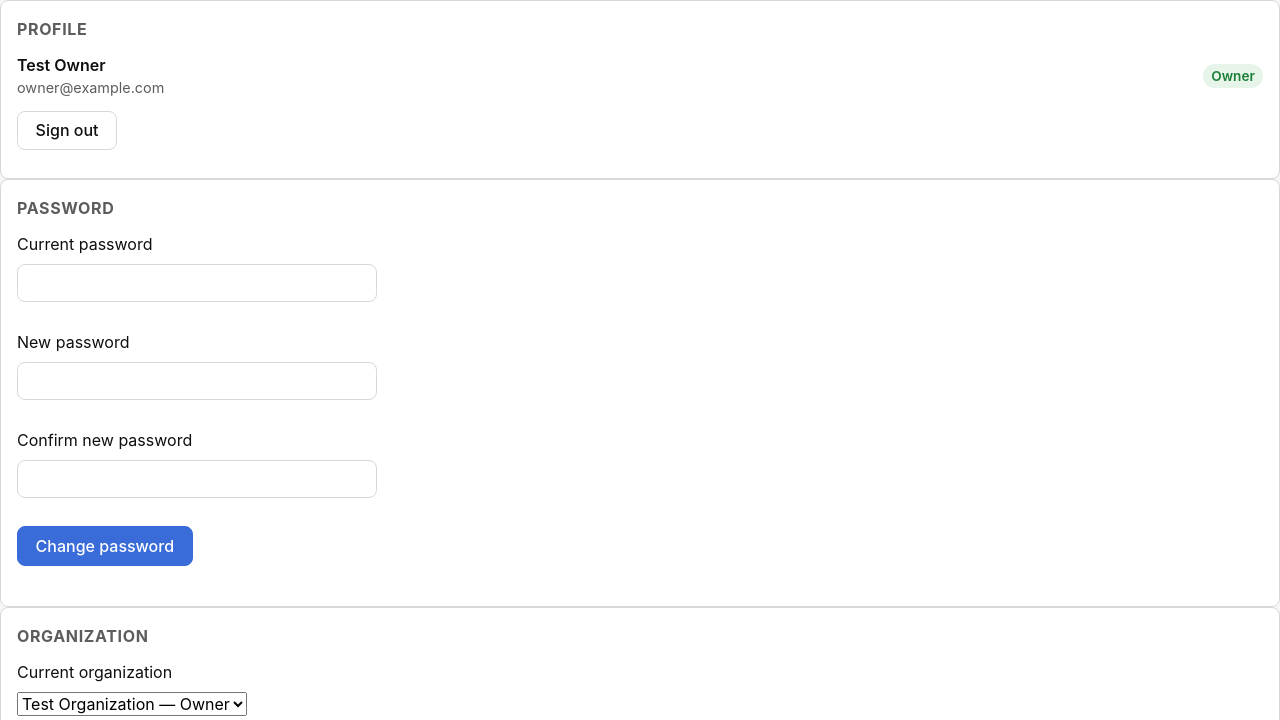
Scenario: AccountPage › changes the password and shows a success message
Step 1. Type "old-password" into the password field labelled "Current password" → (197,283), box [17,264,377,302]
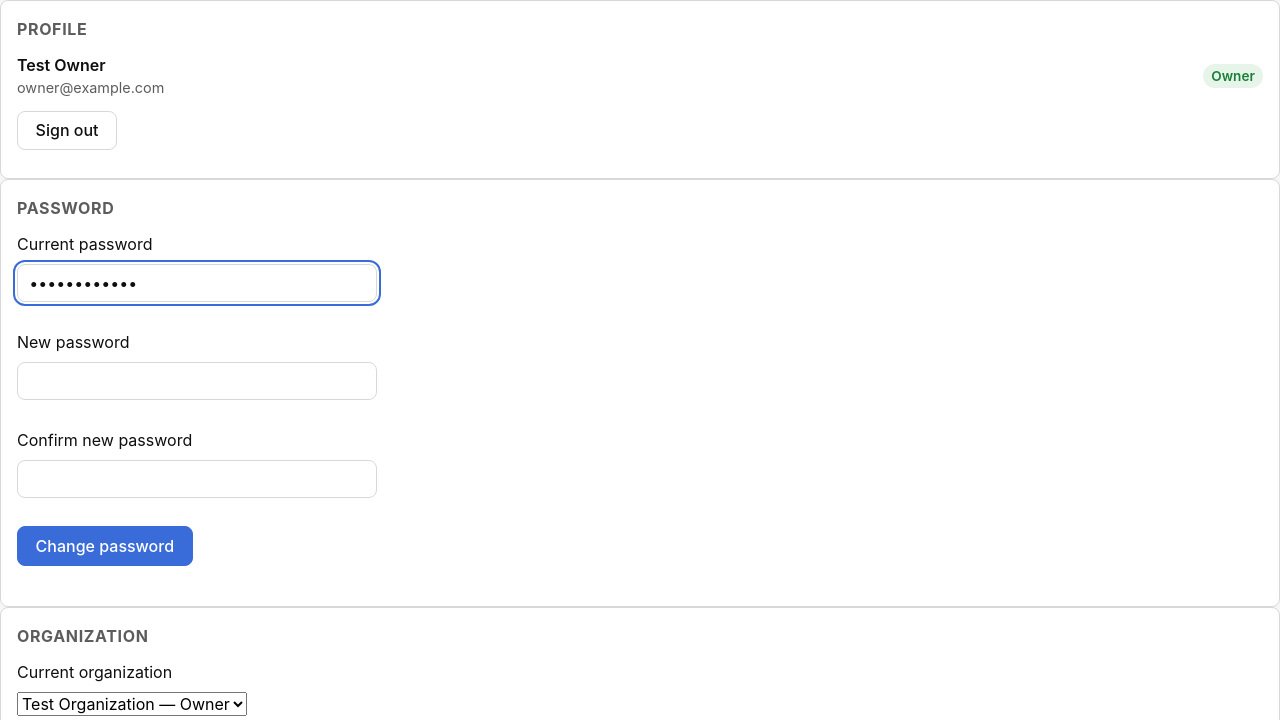
Step 2. Type "new-password-1" into the password field labelled "New password" → (197,381), box [17,362,377,400]
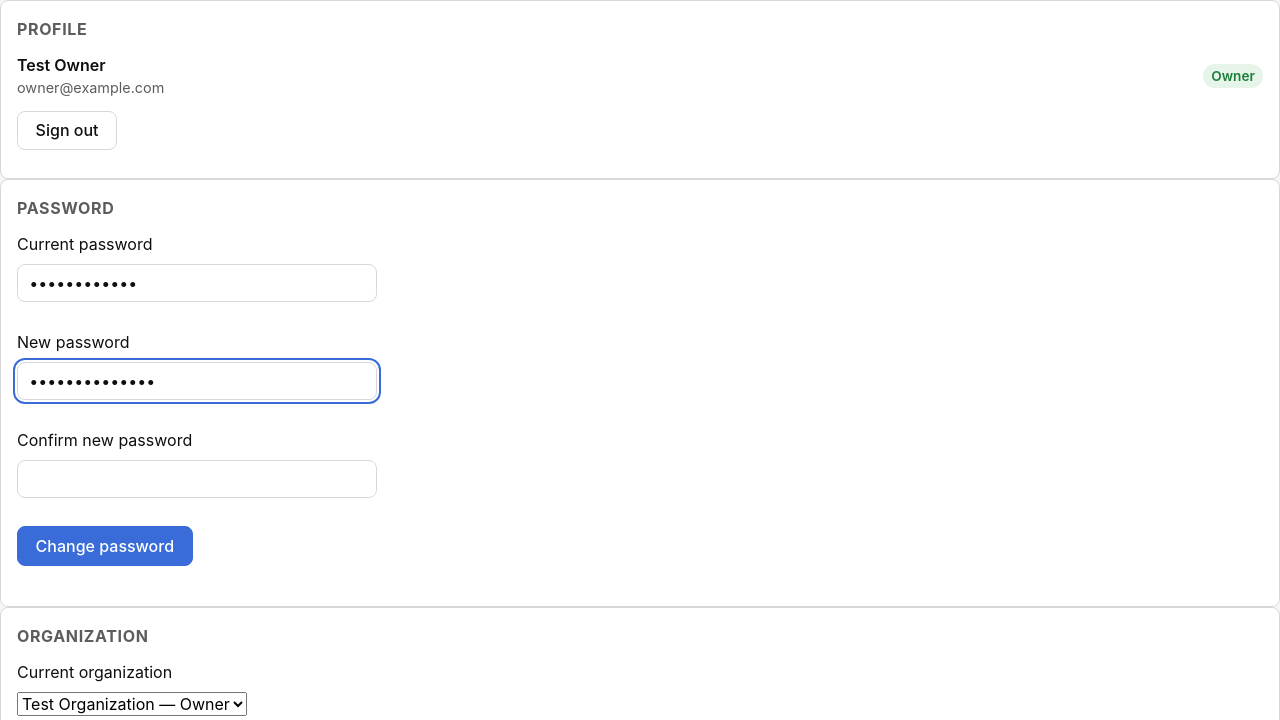
Step 3. Type "new-password-1" into the password field labelled "Confirm new password" → (197,479), box [17,460,377,498]
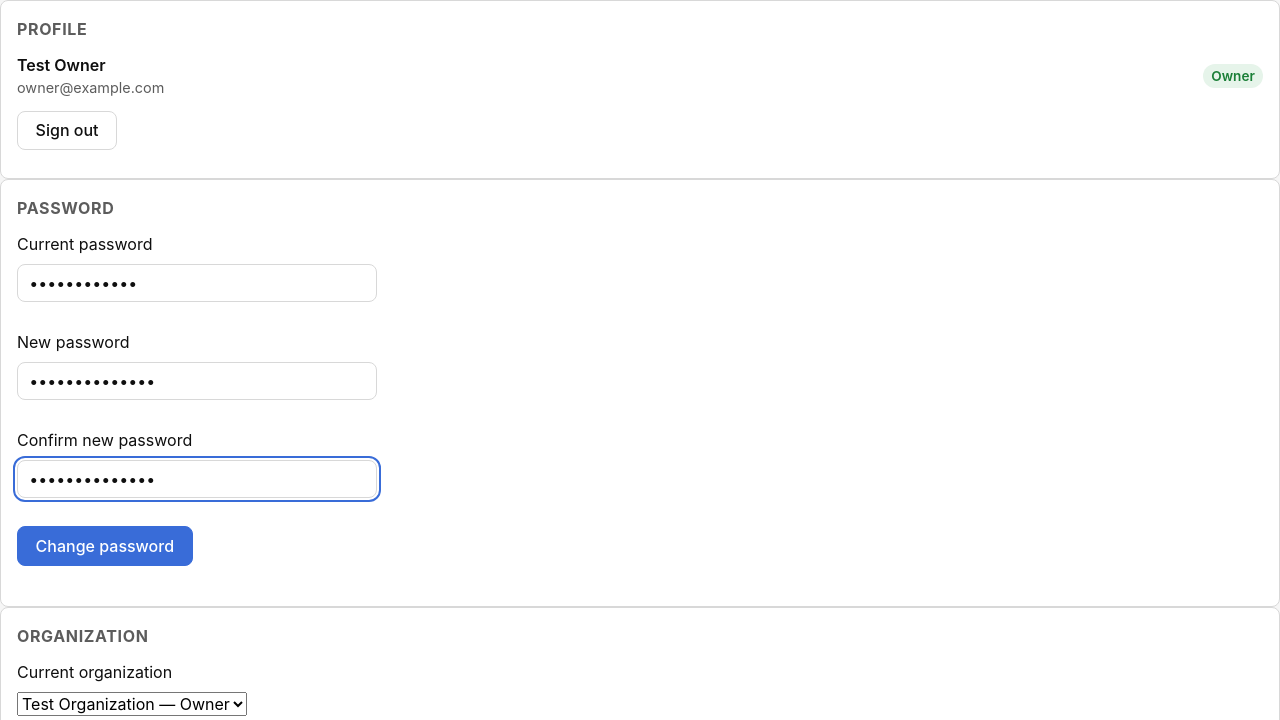
Step 4. Click the button "Change password" → (105,546), box [17,526,193,566]
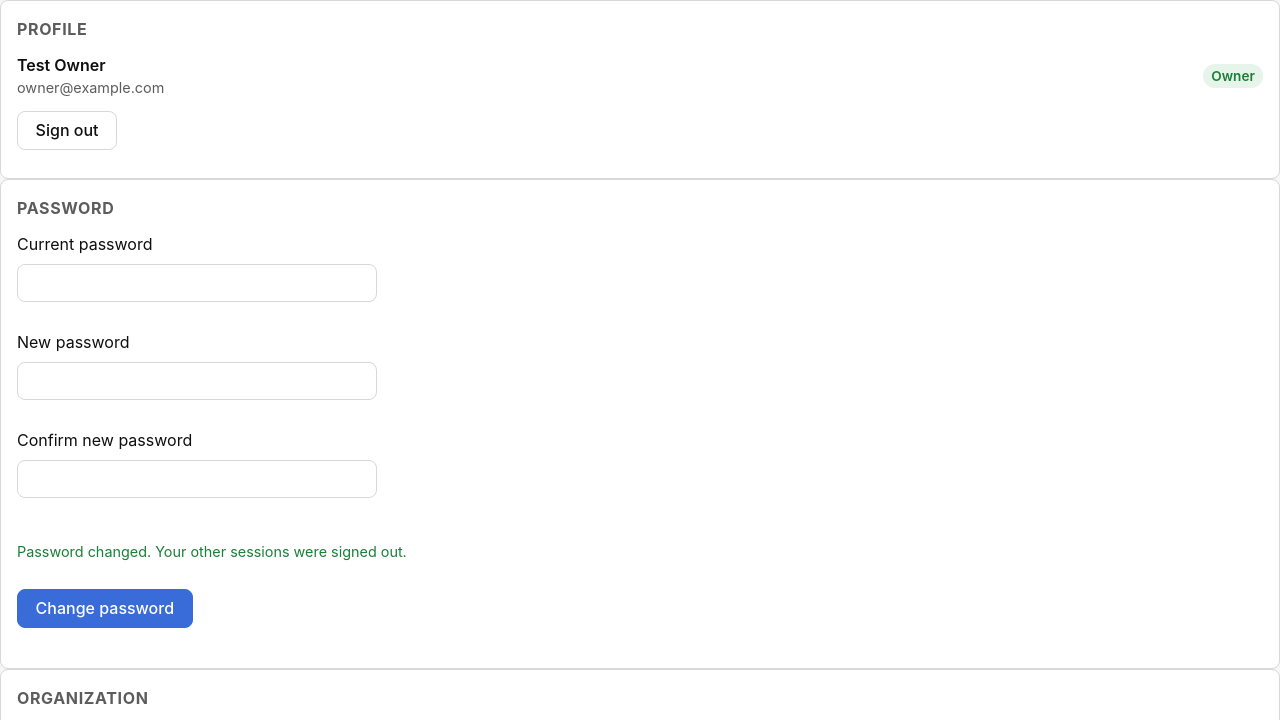
Expected: the text "Password changed. Your other sessions were signed out." is shown, [17,543,407,560]
